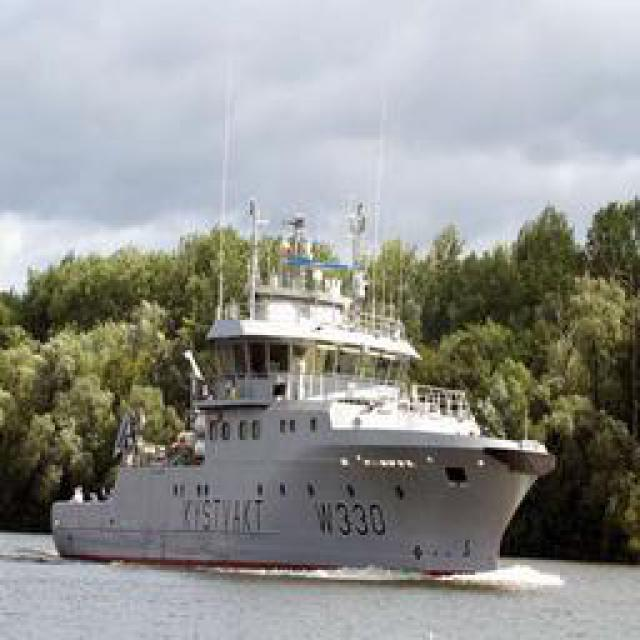Ship: (50, 257, 558, 575)
